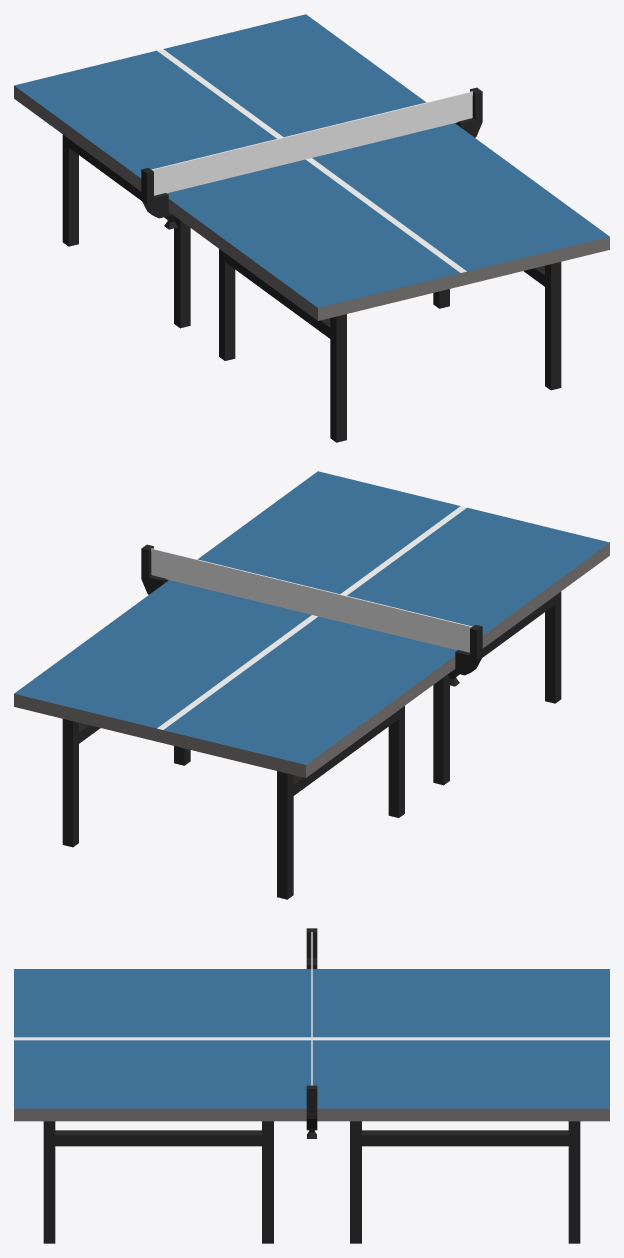
The model's file is sport_table-tennis.fbx.
3 renders of one model, top to bottom at view 1: azimuth 30°, elevation 25°; view 2: azimuth 150°, elevation 25°; view 3: azimuth 270°, elevation 25°, orthographic.
Visible parts, largest first — view 1: sport_table_tennis; view 2: sport_table_tennis; view 3: sport_table_tennis.
Boxes of the visible parts, box(x1,y1,x2,y2) form: sport_table_tennis: box(14, 14, 609, 442); sport_table_tennis: box(14, 471, 609, 899); sport_table_tennis: box(14, 928, 609, 1243).
Size of the model in its own units: 128 by 67.02 by 200.
